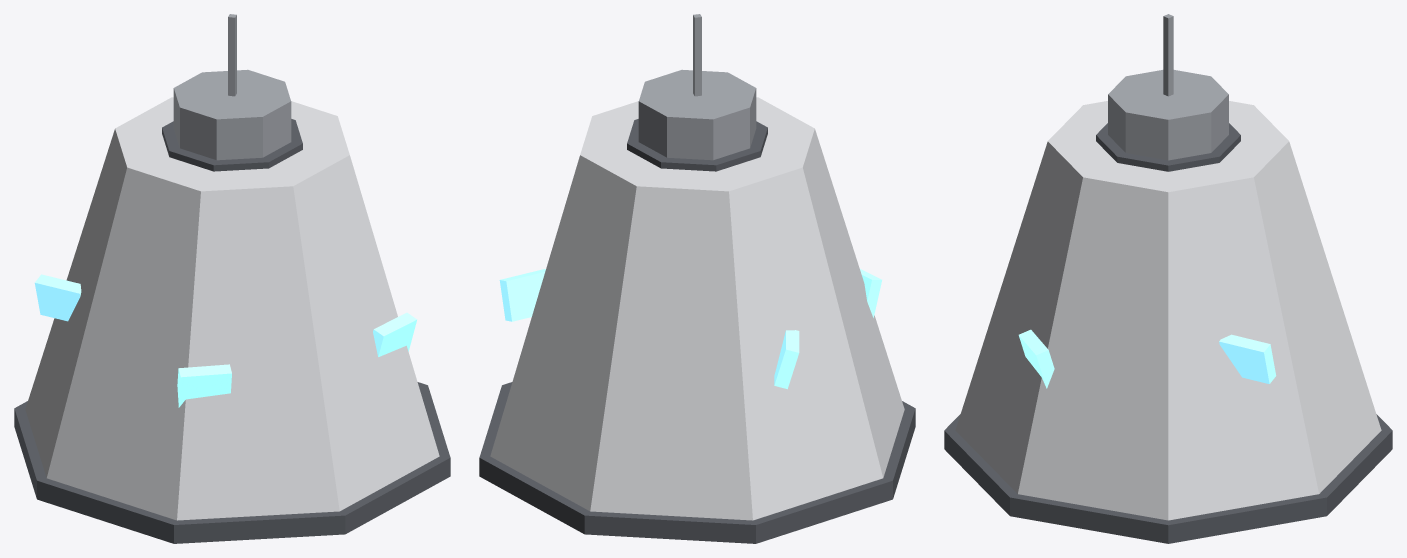
The model's file is capsule_hab.glb.
3 views of the same model, side by side, from view 1: azimuth 30°, elevation 25°; view 2: azimuth 150°, elevation 25°; view 3: azimuth 270°, elevation 25° (orthographic).
Parts seen in each view (by area): view 1: capsule_hab; view 2: capsule_hab; view 3: capsule_hab.
Boxes of the visible parts, x1,y1,x2,y2 form: capsule_hab: (14, 14, 450, 543); capsule_hab: (479, 14, 915, 543); capsule_hab: (944, 14, 1392, 543).
Bounding box in the file's own units: 2.6 × 2.77 × 2.6.
